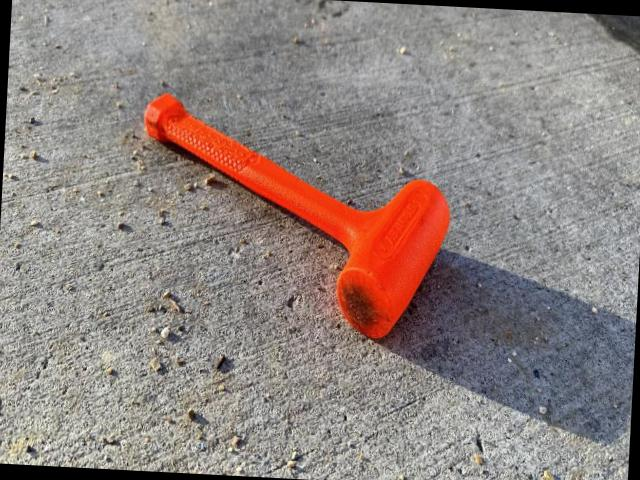hammer: (133, 91, 456, 342)
